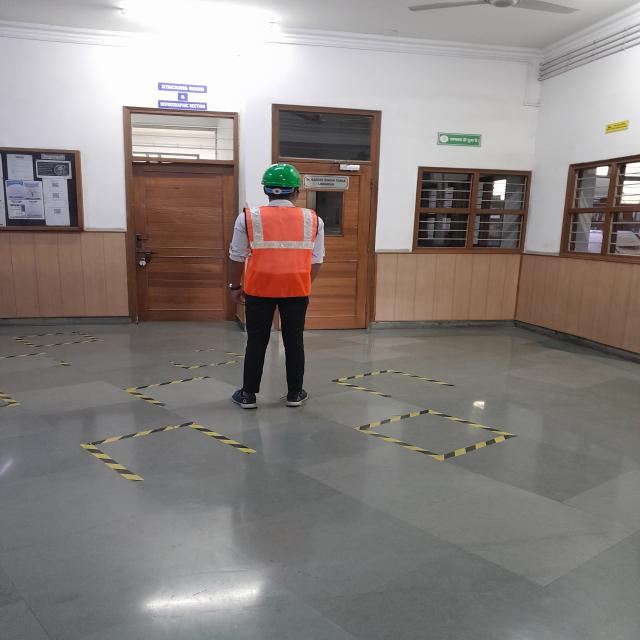safe: (226, 163, 329, 409)
